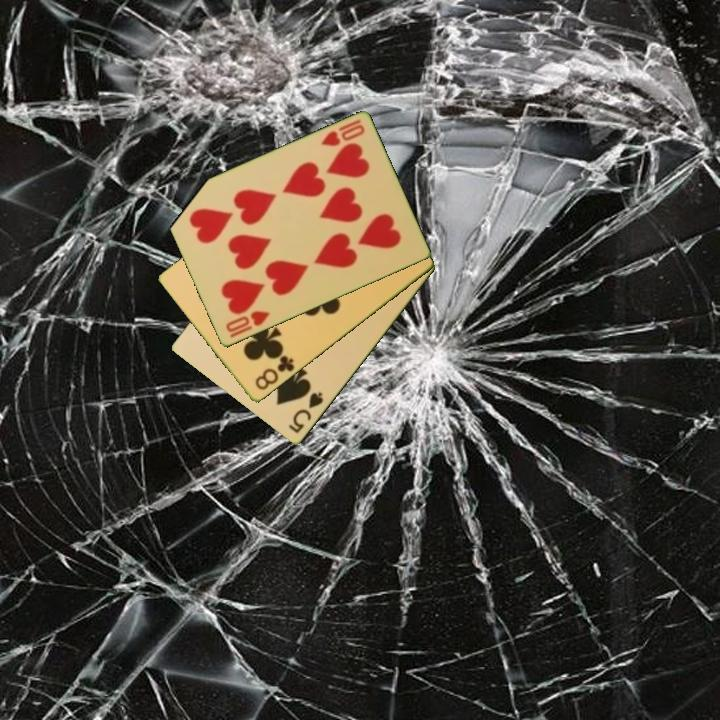10h: (318, 116, 368, 150), (222, 307, 273, 336)
5s: (285, 389, 327, 436)
8c: (251, 352, 297, 393)
